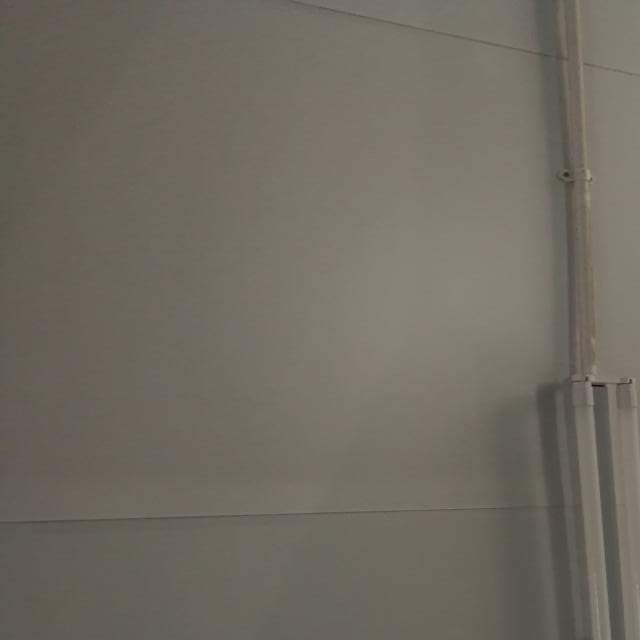fluorescent tube: (548, 365, 640, 640)
